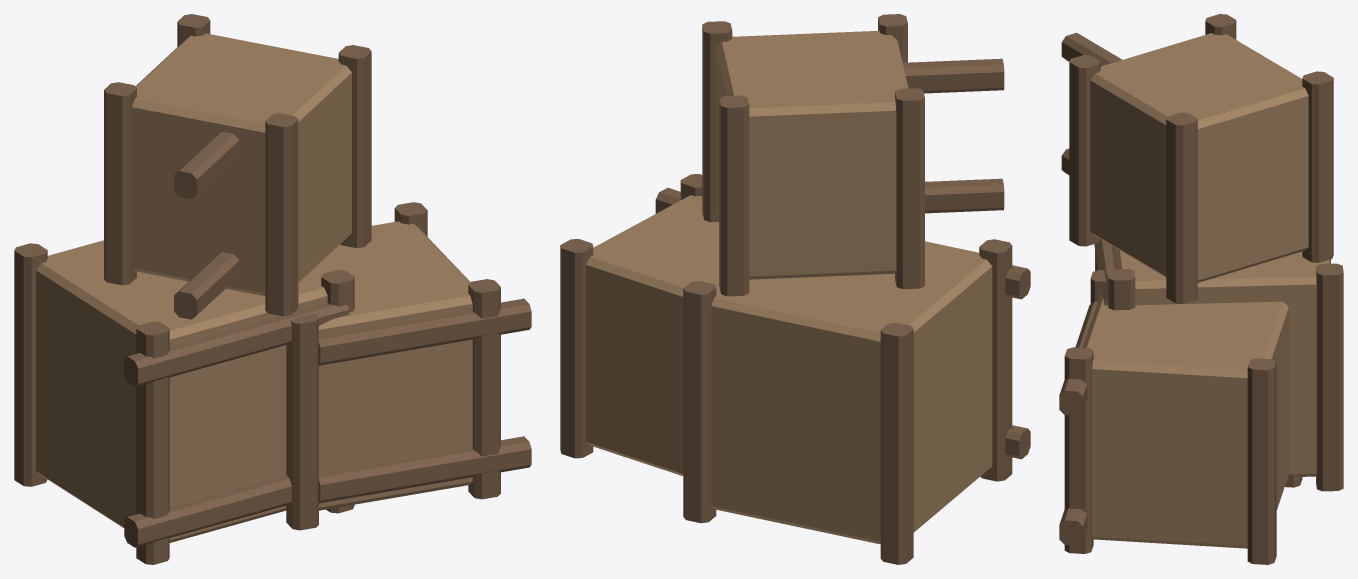
Rendered from stacked_crates.glb.
3 views of the same model, side by side, from view 1: azimuth 30°, elevation 25°; view 2: azimuth 150°, elevation 25°; view 3: azimuth 270°, elevation 25° (orthographic). The views are drawn at different scales.
Visible parts, largest first — view 1: stacked_crates; view 2: stacked_crates; view 3: stacked_crates.
Boxes of the visible parts, left/top/right/bottom form: stacked_crates: left=14, top=14, right=531, bottom=564; stacked_crates: left=560, top=14, right=1030, bottom=564; stacked_crates: left=1059, top=14, right=1343, bottom=564.
Size of the model in its own units: 1.39 by 1.46 by 0.9535.
